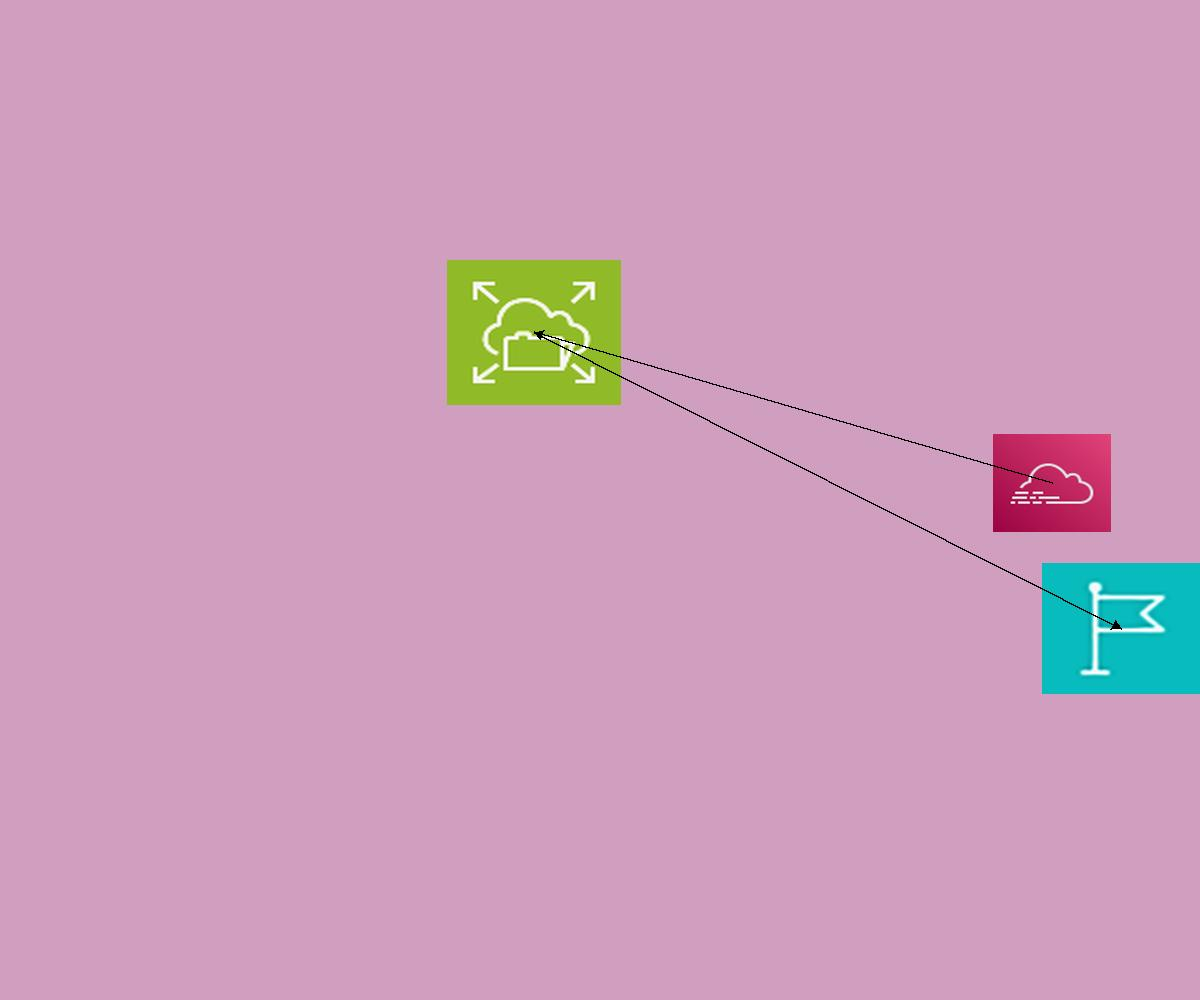AWS-CloudTrail: (993, 434, 1111, 532)
AWS-EFS: (447, 260, 621, 405)
AWS-Region: (1042, 563, 1200, 694)
